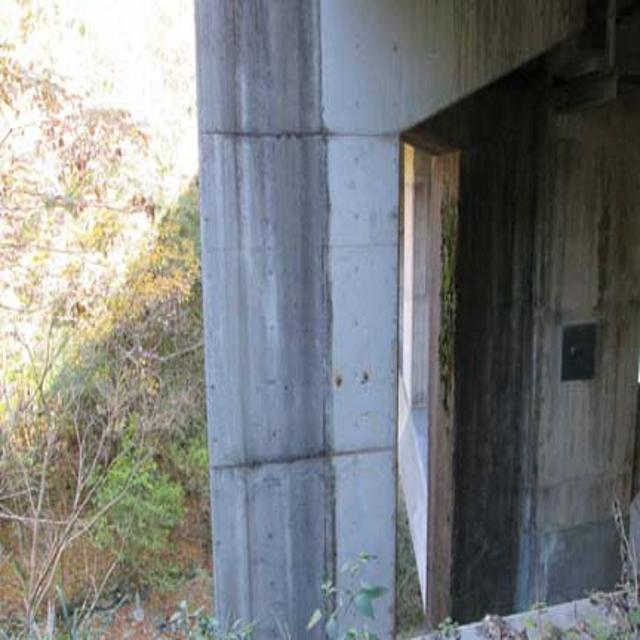leakage: (440, 143, 549, 634)
